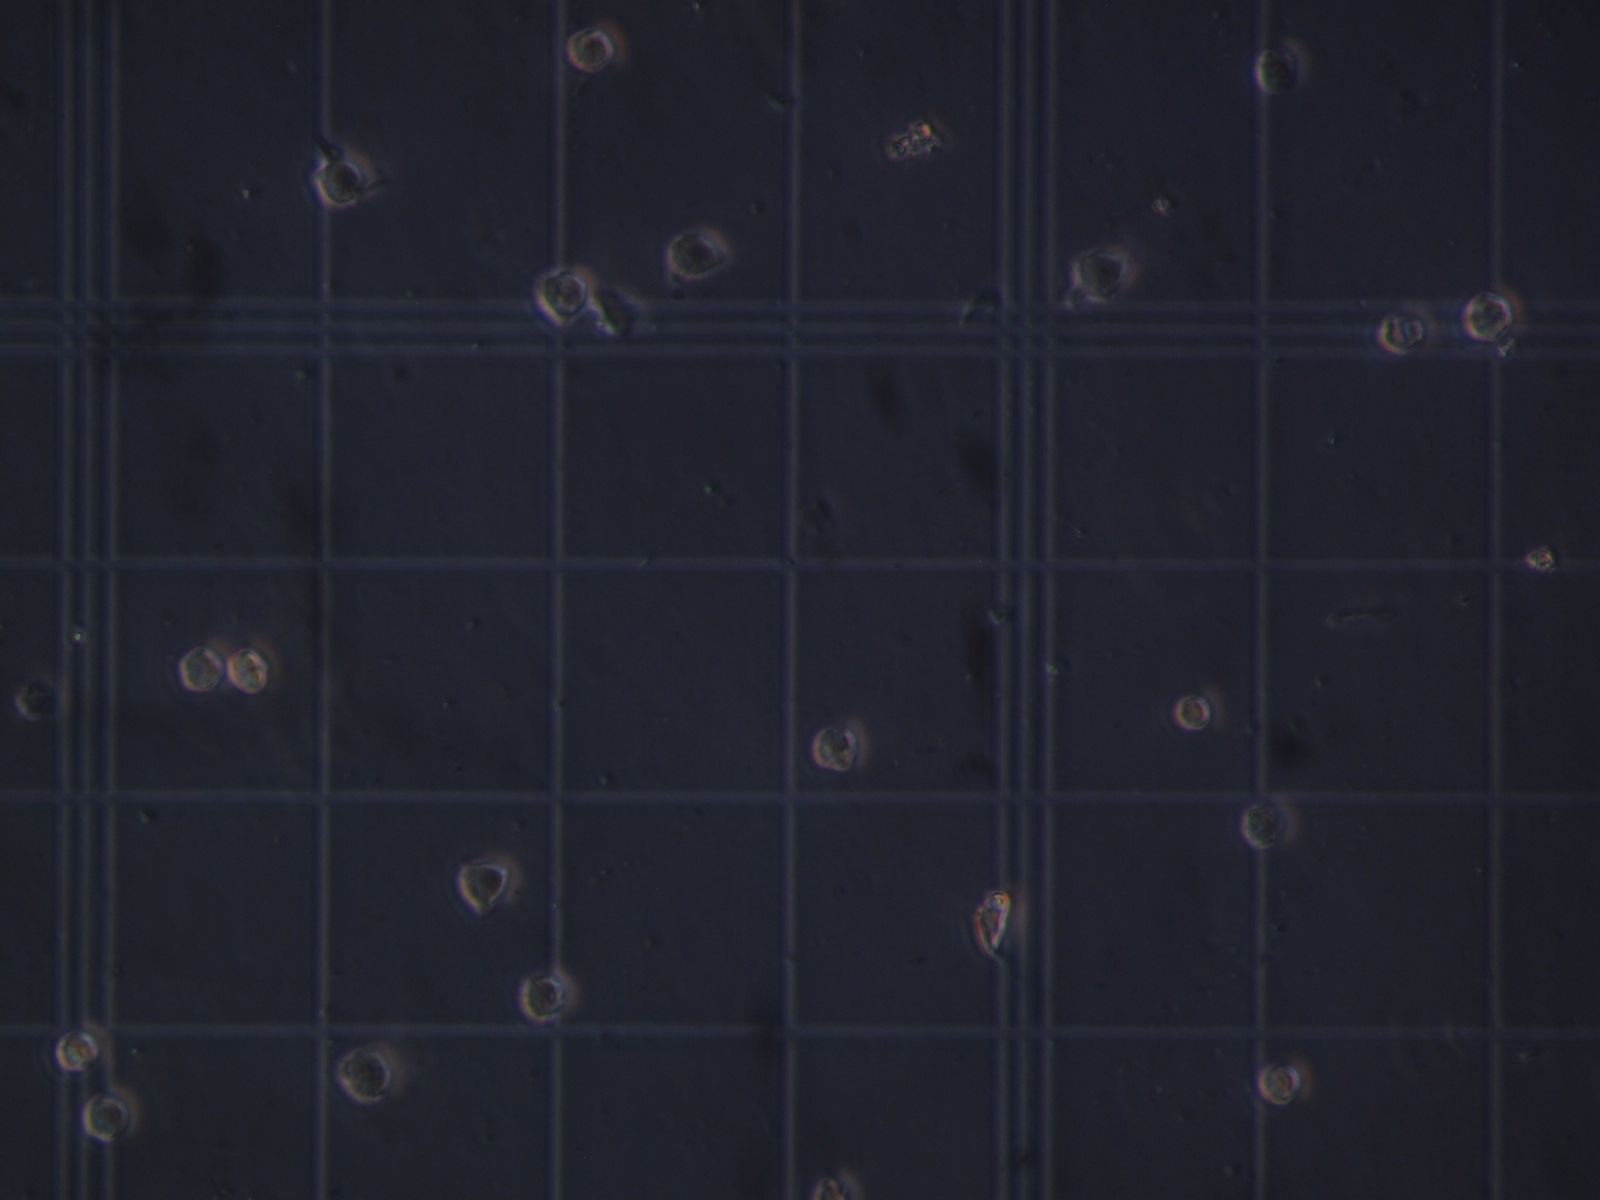hemo: (532, 261, 597, 326), (335, 1042, 404, 1103), (1461, 282, 1526, 345), (81, 1079, 142, 1145), (459, 848, 522, 911), (567, 16, 631, 77), (963, 887, 1015, 959), (1070, 246, 1136, 301), (666, 226, 734, 280), (811, 713, 871, 774), (1374, 300, 1437, 357), (315, 147, 375, 205), (1240, 793, 1296, 853), (520, 966, 578, 1022), (1254, 37, 1310, 95), (57, 1018, 113, 1074), (1256, 1053, 1311, 1108), (16, 671, 63, 725), (176, 644, 227, 693), (1174, 684, 1225, 732), (228, 648, 270, 697)
